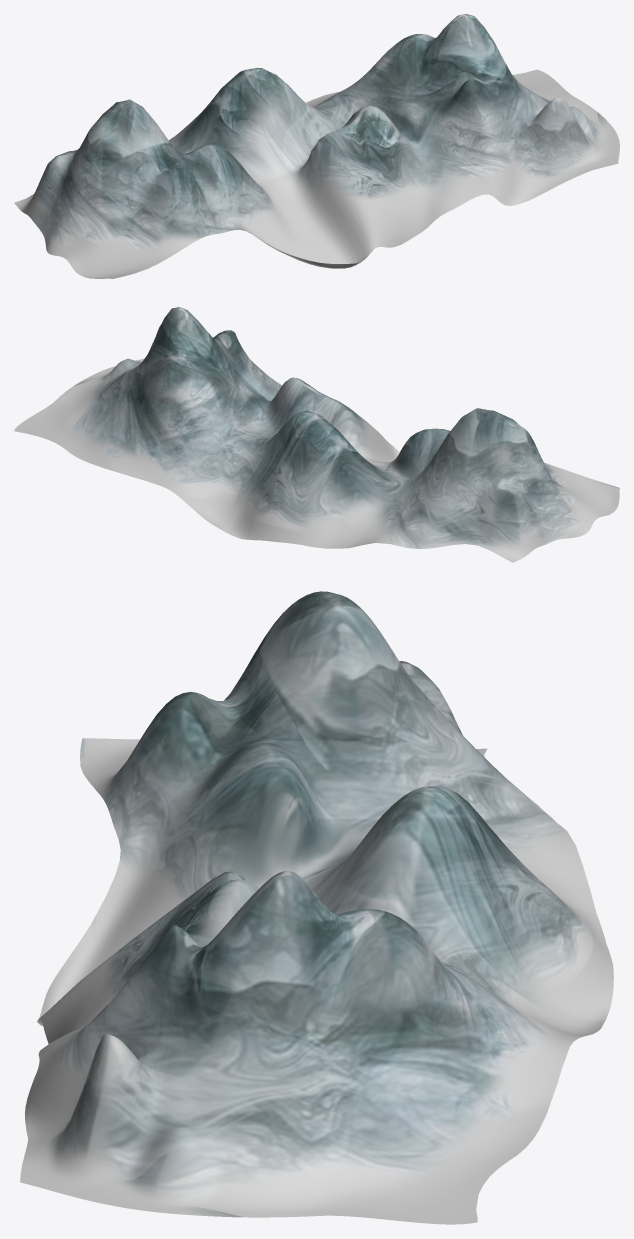
The model's file is SHJ-mountain2.glb.
3 renders of one model, top to bottom at view 1: azimuth 30°, elevation 25°; view 2: azimuth 150°, elevation 25°; view 3: azimuth 270°, elevation 25°, orthographic. The views are drawn at different scales.
Visible parts, largest first — view 1: mountain3; view 2: mountain3; view 3: mountain3.
Boxes of the visible parts, bbox=[...] form: mountain3: bbox=[14, 14, 619, 278]; mountain3: bbox=[14, 307, 619, 562]; mountain3: bbox=[20, 591, 613, 1224].
Bounding box in the file's own units: 25.36 × 7.39 × 12.45.
1 material, 1 textured.
